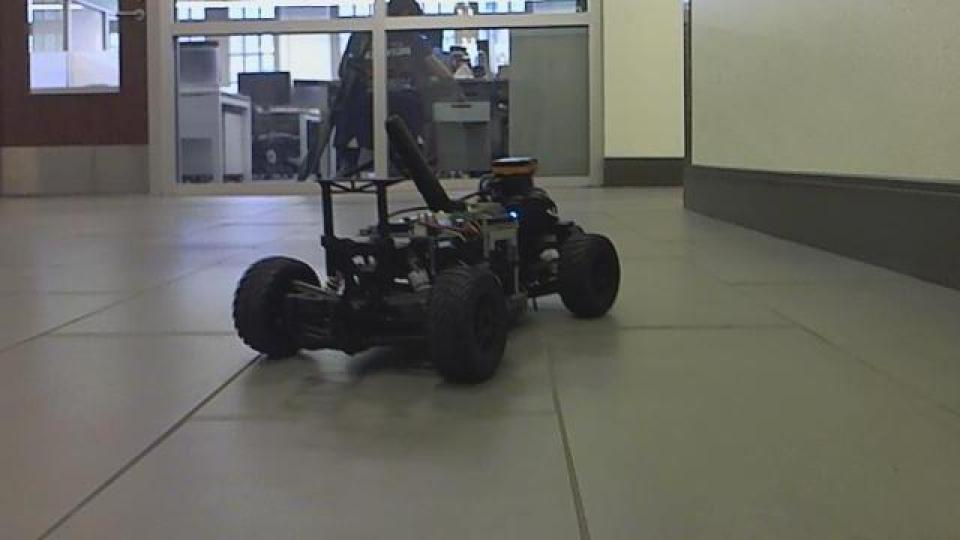car: (228, 111, 622, 385)
